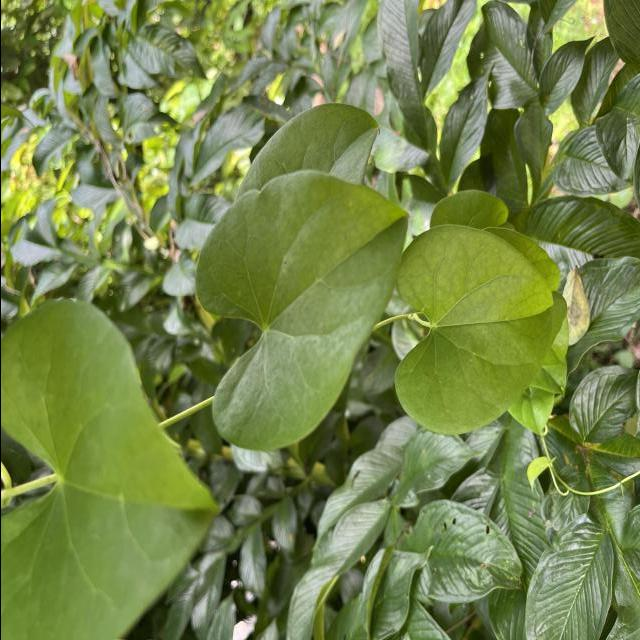Tinospora cordifolia: (1, 294, 224, 640), (188, 166, 414, 456), (387, 222, 556, 439)
